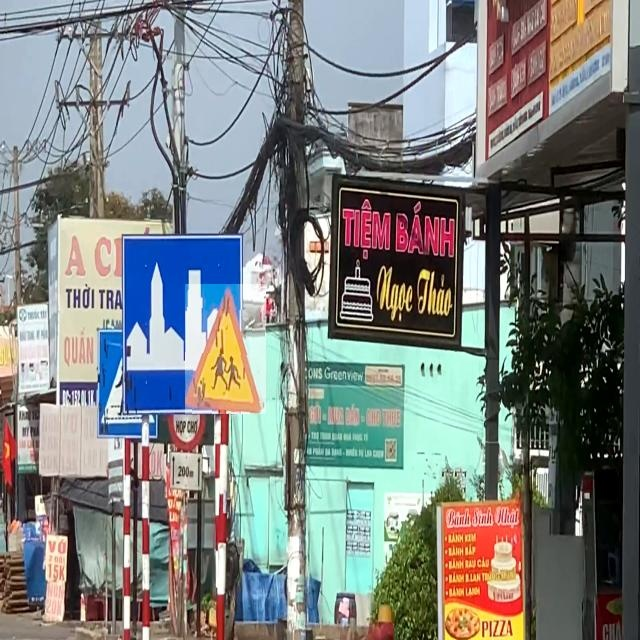bien_nguy_hiem: (185, 284, 266, 414)
